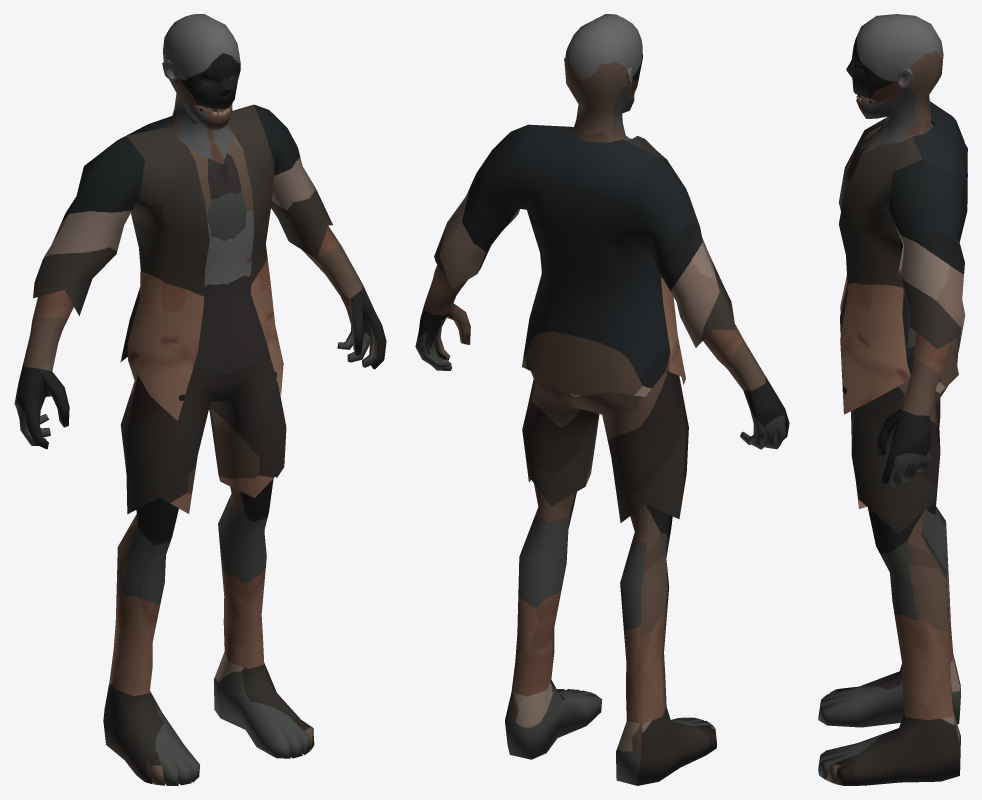
The model's file is ZombieCharacter.fbx.
3 views of the same model, side by side, from view 1: azimuth 30°, elevation 25°; view 2: azimuth 150°, elevation 25°; view 3: azimuth 270°, elevation 25° (orthographic).
Visible parts, largest first — view 1: SK_MainZombie; view 2: SK_MainZombie; view 3: SK_MainZombie.
Boxes of the visible parts, x1=… form: SK_MainZombie: x1=14, y1=14, x2=386, y2=785; SK_MainZombie: x1=415, y1=14, x2=789, y2=785; SK_MainZombie: x1=818, y1=14, x2=967, y2=785.
Size of the model in its own units: 92.98 by 179 by 33.29.
